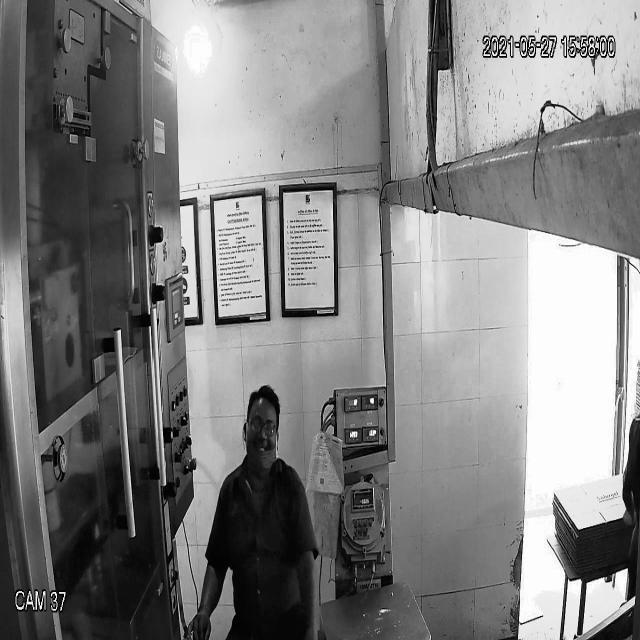glasses: (240, 409, 284, 443)
